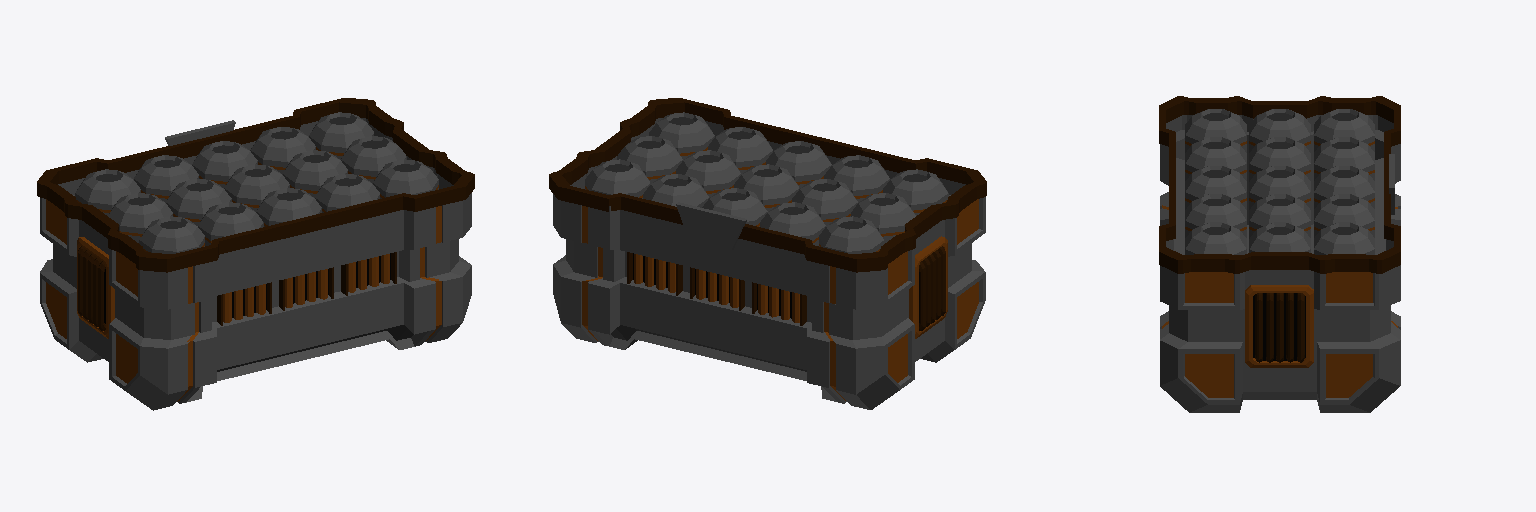
The model's file is Props_ContainerFull.obj.
3 views of the same model, side by side, from view 1: azimuth 30°, elevation 25°; view 2: azimuth 150°, elevation 25°; view 3: azimuth 270°, elevation 25° (orthographic).
Parts seen in each view (by area): view 1: Props_ContainerFull_Cube.026; view 2: Props_ContainerFull_Cube.026; view 3: Props_ContainerFull_Cube.026.
Boxes of the visible parts, box(x1,y1,x2,y2) form: Props_ContainerFull_Cube.026: box(37, 98, 474, 410); Props_ContainerFull_Cube.026: box(549, 98, 986, 409); Props_ContainerFull_Cube.026: box(1159, 96, 1400, 412).
Bounding box in the file's own units: 1.2 × 0.5824 × 0.7517.